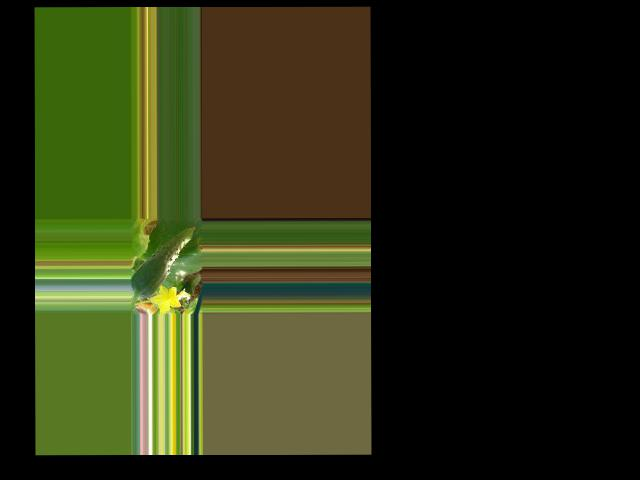cucumber: (130, 226, 195, 298)
